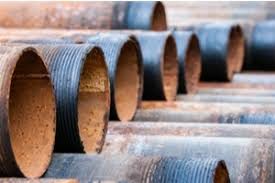rust: (5, 42, 60, 179), (72, 41, 113, 158), (109, 34, 144, 124), (177, 28, 207, 105), (155, 33, 183, 104), (224, 21, 250, 90), (146, 3, 178, 32), (213, 158, 231, 183)
